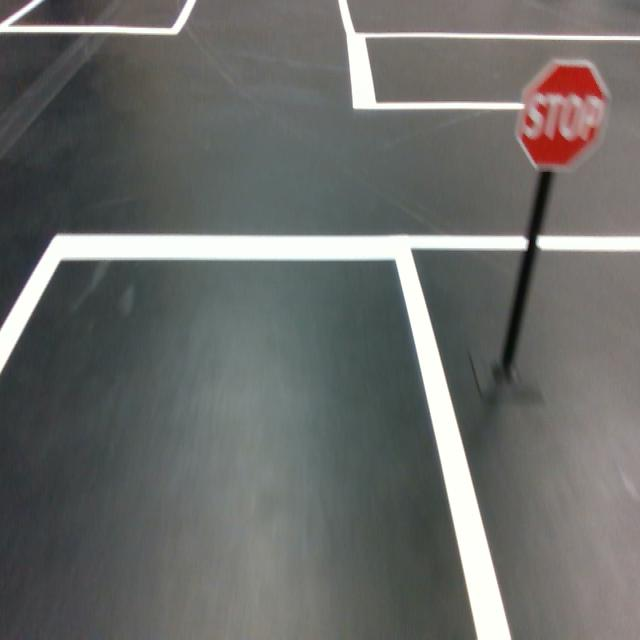stop-sign: (515, 58, 611, 173)
